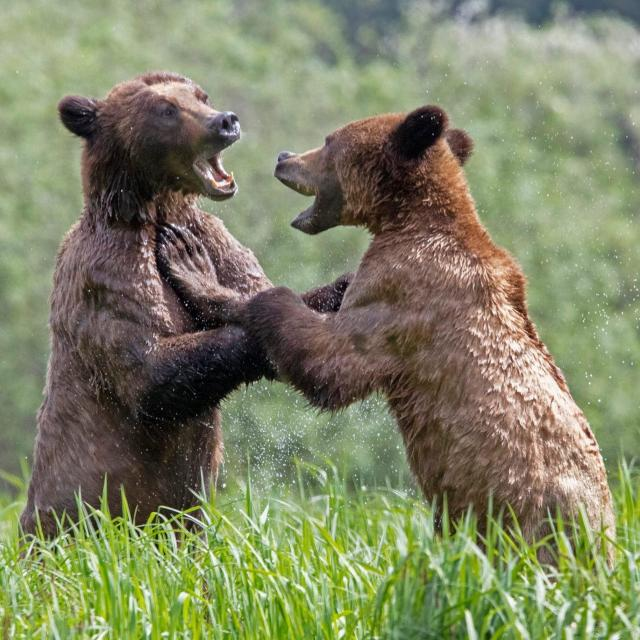Bear: (245, 106, 616, 544), (21, 71, 277, 537)
